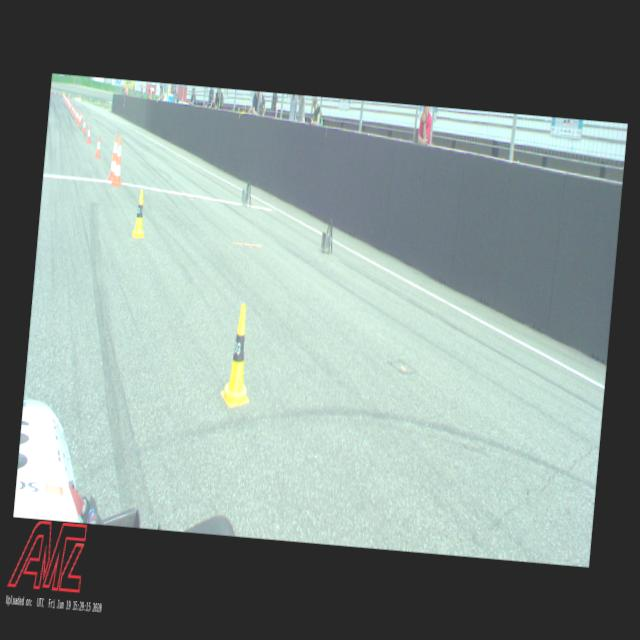large_orange_cone: (111, 136, 125, 186), (108, 134, 119, 180)
orange_cone: (95, 136, 102, 158), (85, 124, 92, 142), (82, 118, 86, 132), (77, 114, 81, 125), (74, 108, 77, 120), (76, 111, 79, 122), (72, 107, 75, 116), (71, 104, 74, 113), (54, 90, 55, 93)
yellow_cone: (220, 304, 256, 406), (131, 190, 147, 238)
